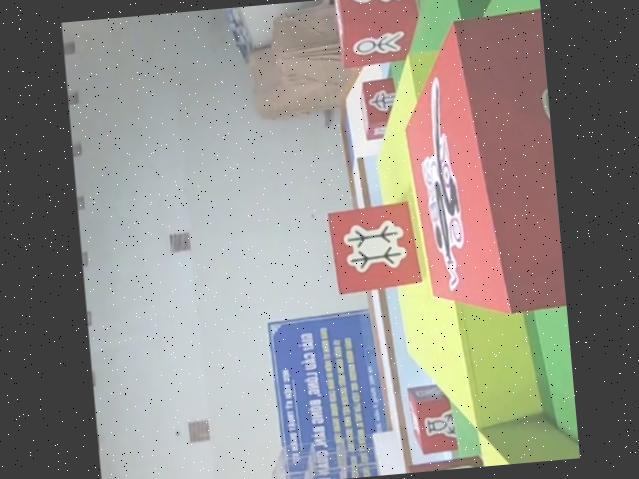R1: (396, 4, 566, 321)
R2 Fake: (355, 75, 402, 141)
R2 Real: (325, 200, 424, 293), (330, 0, 419, 68), (405, 380, 458, 458)
